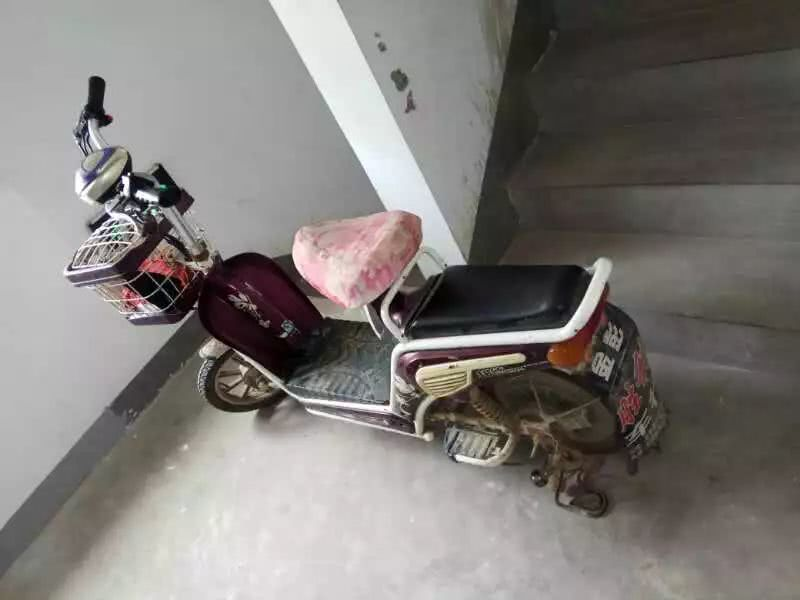电动车: (61, 57, 684, 534)
